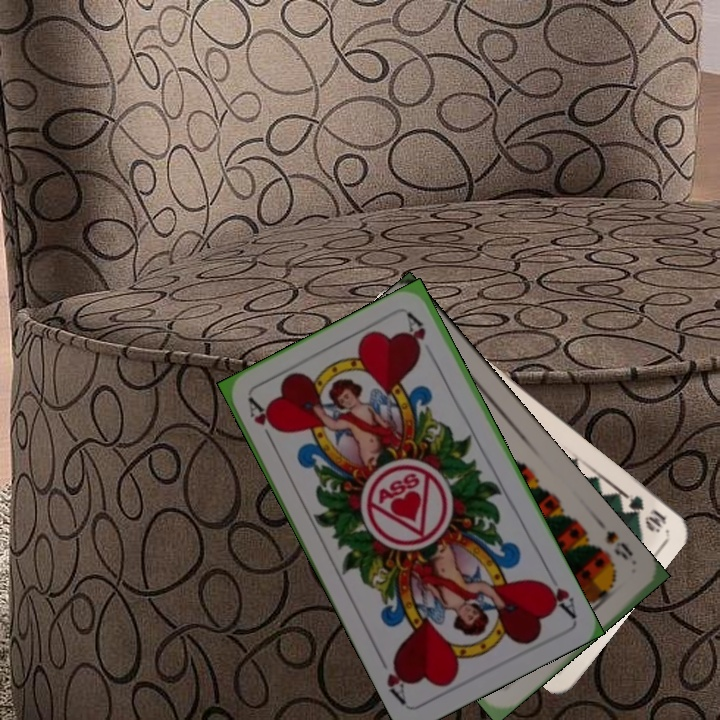G10: (615, 488, 669, 534)
HA: (537, 566, 579, 620), (244, 393, 281, 449)
S8: (601, 526, 636, 564)
